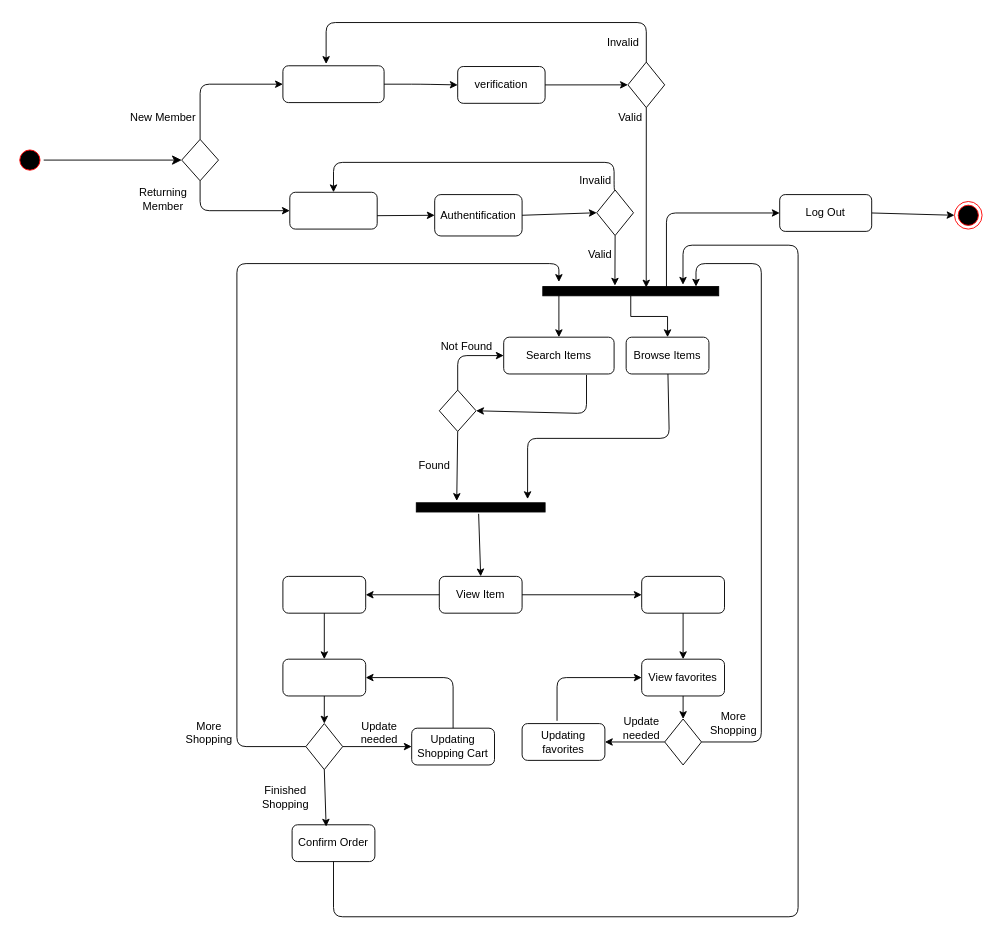
This 998x940 diagram has some shape labels left out. The box of each missing label's shape, as (x1, y1, x2, y2) in pixels:
Add to cart: (282, 575, 366, 613)
Add to favorite: (641, 575, 724, 613)
Login: (289, 191, 377, 229)
Registration: (282, 65, 384, 103)
View Shopping Cart: (282, 658, 366, 696)
